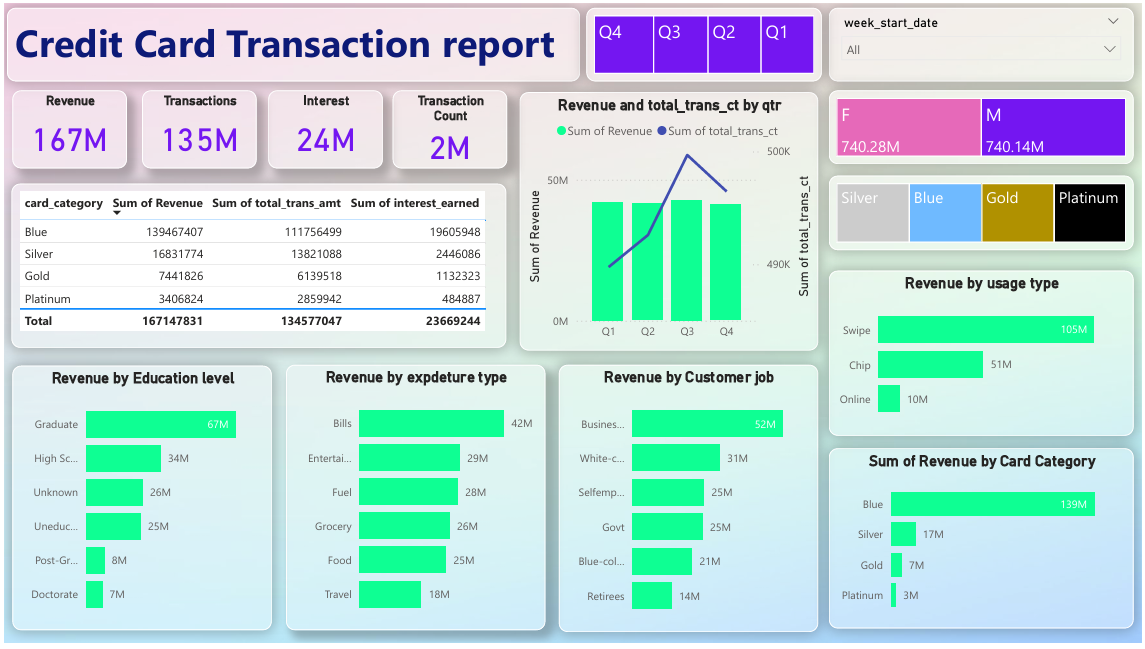

What the dashboard file says about the page in this screenshot:
{"tool":"powerbi","page":{"name":"Credit Card Transaction report","canvas":[1280,720],"ordinal":1},"visuals":[{"type":"textbox","box":[3.5,4.7,644.2,83.7],"z":0},{"type":"lineStackedColumnComboChart","title":"Revenue and total_trans_ct by qtr","fields":{"Category":["public cc_detail.qtr"],"Y":["Sum(public cc_detail.Revenue)"],"Y2":["Sum(public cc_detail.total_trans_ct)"]},"box":[580.2,100,336,290.7],"z":1000},{"type":"barChart","title":"Revenue by expdeture type","fields":{"Y":["Sum(public cc_detail.Revenue)"],"Category":["public cc_detail.exp_type"]},"box":[317.4,407,291.9,298.8],"z":2000},{"type":"barChart","title":"Revenue by Education level","fields":{"Y":["Sum(public cc_detail.Revenue)"],"Category":["public cust_detail.education_level"]},"box":[9.3,408.1,291.9,297.7],"z":3000},{"type":"barChart","title":"Revenue by Customer job","fields":{"Y":["Sum(public cc_detail.Revenue)"],"Category":["public cust_detail.customer_job"]},"box":[624.4,407,291.9,301.2],"z":4000},{"type":"barChart","title":"Sum of Revenue by Card Category","fields":{"Y":["Sum(public cc_detail.Revenue)"],"Category":["public cc_detail.card_category"]},"box":[927.6,500.9,343.1,203.1],"z":5000},{"type":"barChart","title":"Revenue by usage type","fields":{"Y":["Sum(public cc_detail.Revenue)"],"Category":["public cc_detail.use_chip"]},"box":[927.6,300.5,343.1,186.6],"z":6000},{"type":"tableEx","fields":{"Values":["public cc_detail.card_category","Sum(public cc_detail.Revenue)","Sum(public cc_detail.total_trans_amt)","Sum(public cc_detail.interest_earned)"]},"box":[8.1,203.5,557,184.9],"z":7000},{"type":"card","title":"Revenue","fields":{"Values":["Sum(public cc_detail.Revenue)"]},"box":[9.3,97.7,129.1,88.4],"z":8000},{"type":"card","title":"Transactions","fields":{"Values":["Sum(public cc_detail.total_trans_amt)"]},"box":[154.7,97.7,129.1,88.4],"z":9000},{"type":"card","title":"Interest ","fields":{"Values":["Sum(public cc_detail.interest_earned)"]},"box":[296.5,97.7,129.1,88.4],"z":10000},{"type":"card","title":"Transaction Count","fields":{"Values":["Sum(public cc_detail.total_trans_ct)"]},"box":[437.2,97.7,129.1,88.4],"z":11000},{"type":"slicer","fields":{"Values":["public cc_detail.week_start_date"]},"box":[927.9,4.7,343,83.7],"z":12000},{"type":"treemap","fields":{"Group":["public cc_detail.qtr"],"Values":["Avg(public cc_detail.client_num)"]},"box":[654.7,4.7,265.1,83.7],"z":13000},{"type":"treemap","fields":{"Group":["public cust_detail.gender"],"Values":["Avg(public cc_detail.client_num)"]},"box":[927.9,97.7,343,83.7],"z":14000},{"type":"treemap","fields":{"Group":["public cc_detail.card_category"],"Values":["Avg(public cc_detail.client_num)"]},"box":[927.9,194.2,343,83.7],"z":15000}]}

Visuals, with their boxes in screenshot pixels (x1, y1, x2, y2), scaled from the page's 1280x720 canvas onto the 1145x649 screenshot:
textbox: 3,4,579,80
"Revenue and total_trans_ct by qtr" lineStackedColumnComboChart: 519,90,820,352
"Revenue by expdeture type" barChart: 284,367,545,636
"Revenue by Education level" barChart: 8,368,269,636
"Revenue by Customer job" barChart: 559,367,820,638
"Sum of Revenue by Card Category" barChart: 830,452,1137,635
"Revenue by usage type" barChart: 830,271,1137,439
tableEx - public cc_detail.card_category x Sum(public cc_detail.Revenue): 7,183,505,350
"Revenue" card: 8,88,124,168
"Transactions" card: 138,88,254,168
"Interest " card: 265,88,381,168
"Transaction Count" card: 391,88,507,168
slicer - public cc_detail.week_start_date: 830,4,1137,80
treemap - public cc_detail.qtr x Avg(public cc_detail.client_num): 586,4,823,80
treemap - public cust_detail.gender x Avg(public cc_detail.client_num): 830,88,1137,164
treemap - public cc_detail.card_category x Avg(public cc_detail.client_num): 830,175,1137,250
